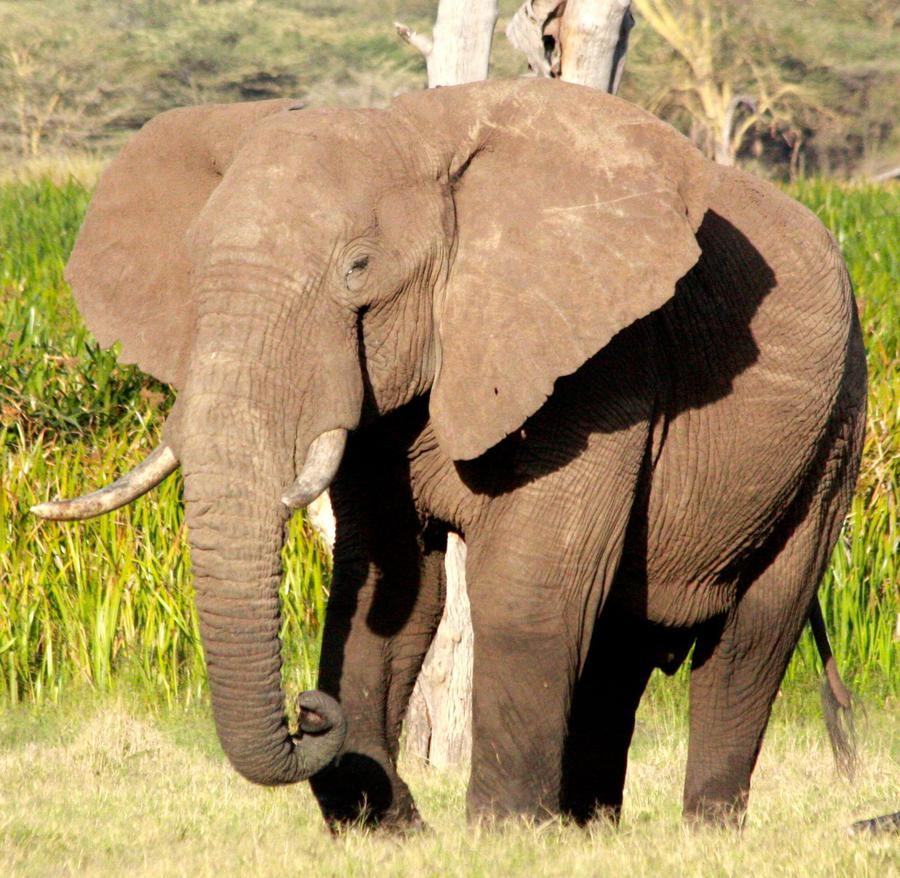elephant: (67, 89, 648, 483)
